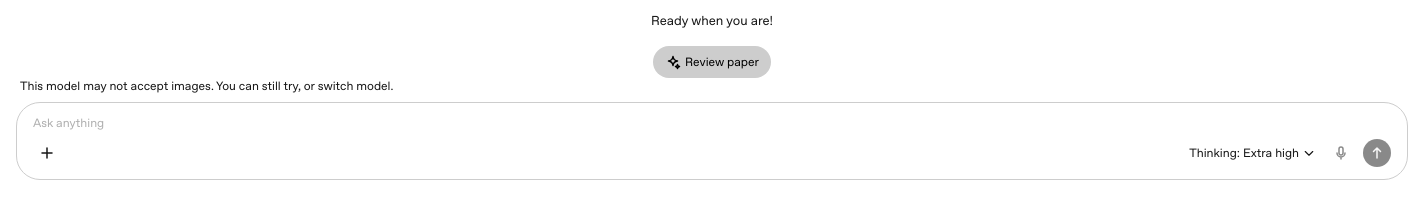
Scenario: Composer context chips › shows an empty state when an @ query matches no files
This screenshot has width=1425, height=197.
Step 1. Type "@zzz" into the text box labelled "Ask anything" → (712, 123), box [33,115,1391,131]
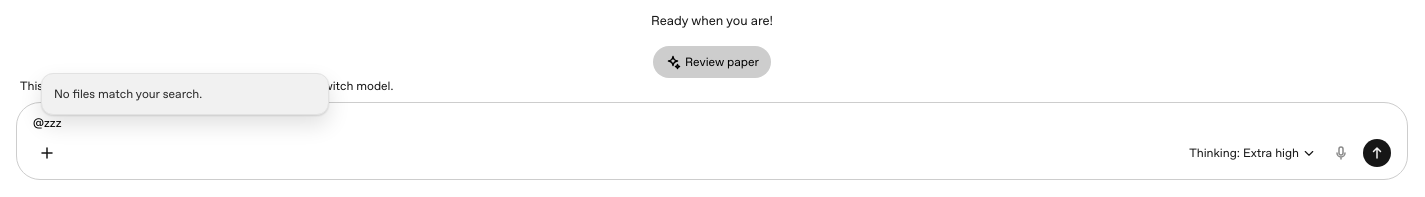
Check: the list is shown, box [41,73,329,115]
Check: the text "No files match your search." is shown, box [54,87,202,101]
